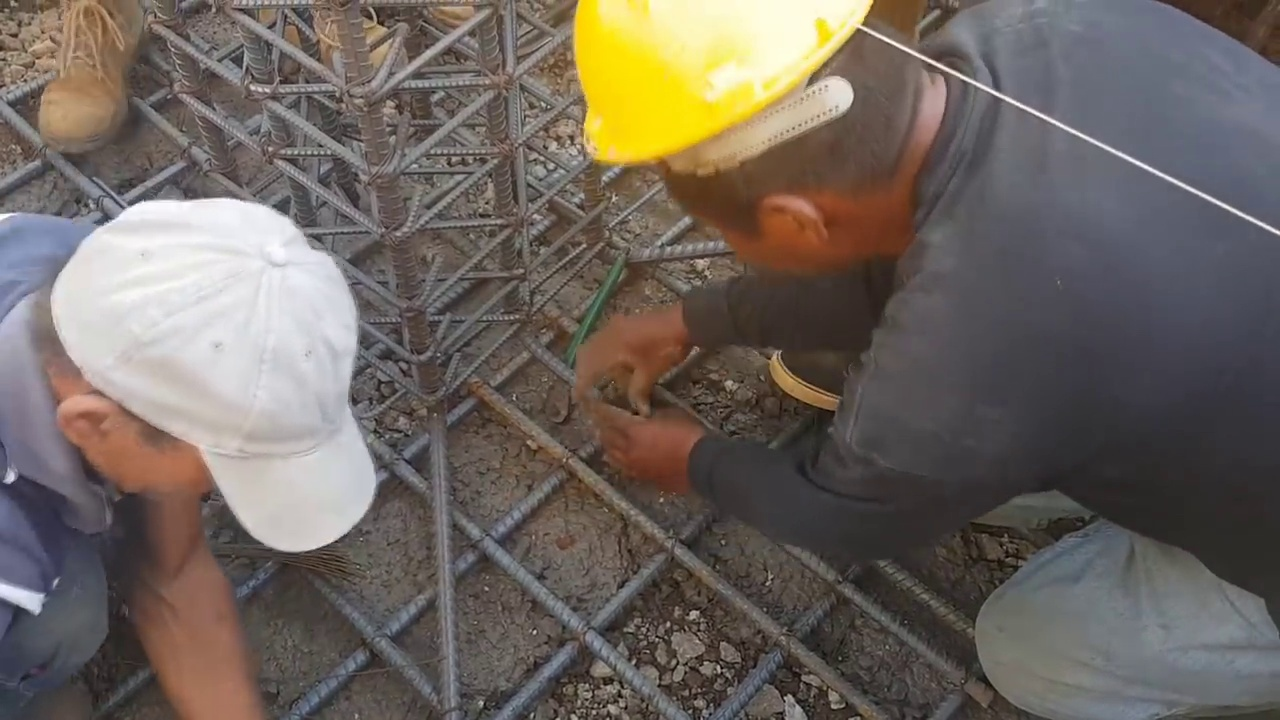helmet: (556, 2, 878, 179)
helmet-off: (21, 193, 369, 547)
helmet-on: (561, 0, 943, 284)
person: (554, 2, 1279, 698), (1, 186, 370, 718)
